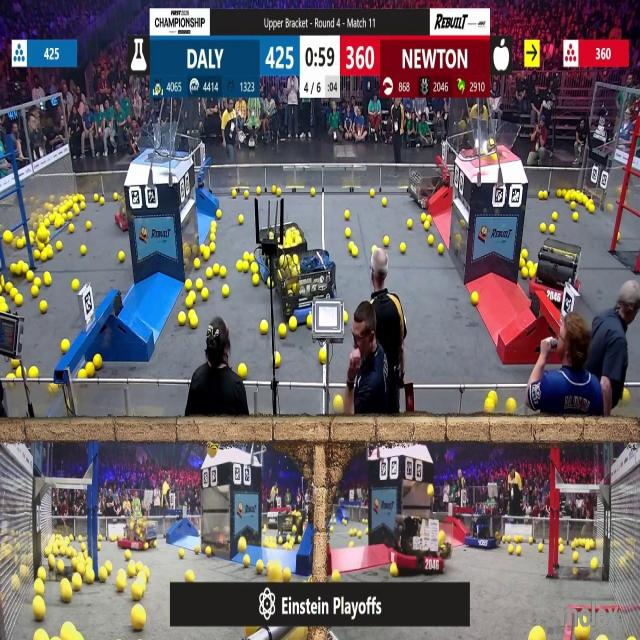ball_airborne: (427, 486, 434, 498), (163, 484, 170, 495), (492, 153, 497, 161)
ball_ground: (132, 607, 145, 632), (34, 598, 45, 622), (62, 624, 75, 640), (62, 583, 72, 603), (133, 584, 143, 602), (574, 627, 587, 640), (530, 628, 544, 640), (72, 574, 82, 590), (116, 577, 125, 593), (94, 354, 103, 368), (335, 395, 344, 409), (486, 398, 495, 412), (319, 349, 327, 364), (506, 398, 514, 413), (34, 630, 46, 640), (87, 362, 96, 375), (178, 312, 186, 326), (238, 538, 246, 552), (35, 582, 43, 596), (100, 568, 108, 582), (87, 570, 96, 582), (275, 352, 282, 367), (263, 322, 270, 337), (239, 363, 247, 376), (278, 324, 286, 337), (62, 341, 70, 354), (283, 568, 291, 581), (256, 560, 263, 574), (390, 564, 398, 576), (188, 316, 196, 328), (288, 318, 296, 330), (186, 570, 194, 582), (129, 564, 137, 576), (38, 568, 46, 580), (623, 389, 630, 402), (59, 560, 66, 573), (4, 232, 11, 245), (29, 366, 38, 376), (331, 570, 339, 581), (470, 292, 477, 304), (40, 302, 47, 314), (202, 288, 209, 300), (221, 285, 228, 297), (15, 294, 22, 306), (185, 295, 192, 307), (79, 365, 86, 377), (250, 264, 258, 274), (546, 222, 554, 232), (44, 274, 50, 287), (72, 280, 79, 291), (591, 559, 598, 570), (206, 269, 213, 280), (252, 275, 259, 286), (308, 316, 314, 328), (46, 248, 52, 260), (48, 556, 54, 568), (32, 286, 39, 296), (539, 222, 546, 232), (237, 263, 244, 273), (243, 263, 250, 273), (16, 263, 23, 273), (185, 280, 191, 291), (244, 556, 250, 567), (118, 251, 124, 262), (399, 243, 405, 254), (572, 552, 578, 563), (72, 558, 78, 569), (11, 358, 18, 367), (9, 287, 16, 296), (9, 265, 16, 274), (195, 280, 201, 290), (28, 272, 34, 282), (523, 269, 529, 279), (220, 268, 226, 278), (428, 236, 434, 246), (437, 242, 443, 252), (352, 247, 358, 257), (572, 212, 578, 222), (15, 366, 21, 376), (193, 260, 199, 270), (87, 220, 93, 230), (34, 250, 40, 260), (106, 562, 112, 572), (0, 304, 6, 314), (572, 567, 578, 577), (528, 268, 534, 278), (40, 250, 46, 260), (204, 250, 210, 260), (589, 204, 595, 214), (243, 252, 250, 260), (15, 241, 22, 249), (384, 237, 389, 248), (57, 242, 63, 251), (507, 544, 513, 553), (206, 546, 212, 555), (193, 544, 199, 553), (408, 219, 414, 228), (123, 551, 129, 560), (382, 199, 388, 208), (35, 278, 41, 287), (94, 193, 100, 202), (23, 264, 29, 273), (74, 207, 80, 216), (345, 210, 350, 220), (522, 249, 528, 257), (570, 202, 576, 210), (520, 258, 526, 266), (348, 242, 354, 250), (68, 212, 74, 220), (110, 534, 116, 542), (557, 188, 563, 196), (6, 282, 12, 290), (80, 246, 85, 255), (180, 550, 185, 559), (553, 212, 558, 221), (517, 545, 522, 554), (424, 221, 429, 230), (216, 210, 221, 219), (69, 223, 74, 232), (211, 244, 216, 253), (268, 279, 273, 288), (272, 185, 277, 194), (244, 190, 250, 197), (210, 235, 216, 242), (370, 246, 376, 253), (346, 230, 351, 238), (538, 542, 543, 550), (239, 215, 244, 223), (369, 188, 374, 196), (100, 198, 105, 206), (559, 544, 564, 552), (0, 295, 5, 303), (538, 190, 543, 198), (277, 188, 282, 196), (515, 535, 520, 543), (81, 542, 86, 550), (565, 195, 570, 203), (145, 568, 149, 578), (344, 314, 348, 323), (422, 214, 426, 223), (0, 284, 4, 293), (348, 541, 354, 547), (113, 192, 118, 199), (144, 542, 149, 549), (311, 188, 316, 195), (296, 536, 301, 543), (98, 542, 102, 550), (256, 186, 260, 194), (572, 540, 576, 548), (211, 226, 216, 232), (234, 190, 238, 197), (358, 533, 362, 540), (618, 235, 622, 242), (80, 203, 84, 210), (344, 518, 348, 525), (599, 636, 606, 640), (152, 540, 156, 547), (529, 537, 533, 543), (99, 535, 102, 541)
goal: (465, 121, 521, 160), (130, 130, 189, 160)
robot_blue: (257, 222, 310, 283), (466, 514, 502, 549), (276, 512, 304, 539)
robot_red: (396, 506, 448, 574), (536, 238, 582, 308), (409, 164, 452, 208), (120, 515, 158, 549), (116, 204, 130, 231)
